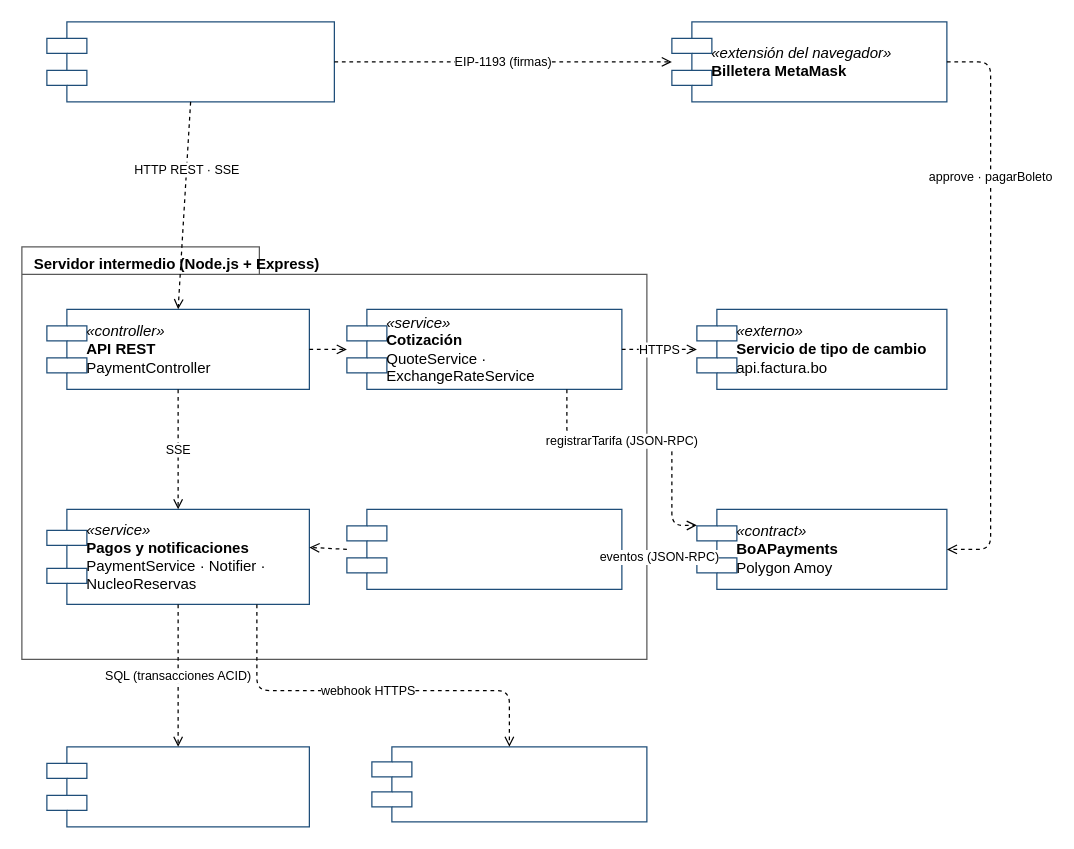
Some shapes in this 1074 by 849 pixel diagram are drawn without their labels. Here are the shapes that lost their labels. From the top down, the centre of each, then its label:
At point (190, 61): "«React + Vite» Aplicación web BookingApp · CryptoFlow".
At point (484, 548): "«service» Monitor de eventos BlockchainListener".
At point (177, 786): "«database» PostgreSQL 16 contenedor Docker".
At point (509, 784): "«externo» Sistema central de reservas BoA".
